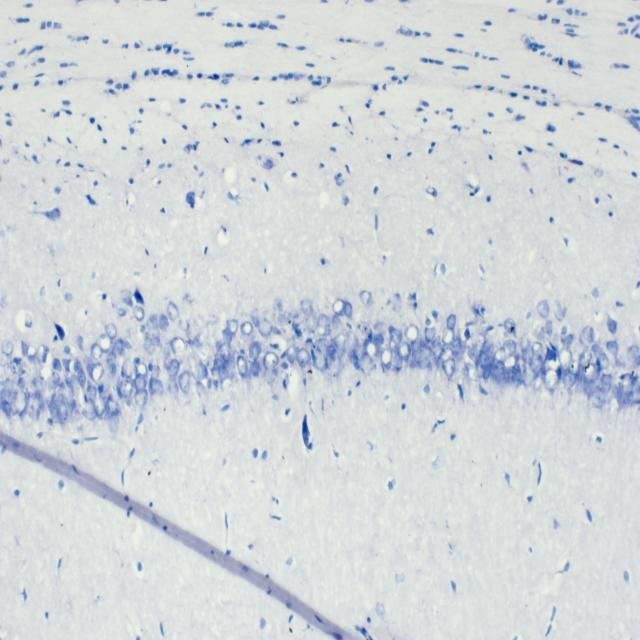neuron: (551, 379, 572, 413), (310, 342, 328, 372), (25, 393, 40, 421), (87, 362, 105, 383), (452, 337, 467, 362), (317, 314, 332, 337), (388, 324, 402, 348), (558, 347, 572, 371), (502, 352, 520, 370), (148, 377, 165, 396), (544, 368, 558, 391), (419, 345, 432, 369), (532, 354, 545, 378), (359, 353, 373, 375), (296, 348, 311, 368), (404, 323, 419, 343), (93, 393, 106, 416), (364, 338, 378, 359), (49, 394, 59, 423), (263, 351, 279, 369), (178, 371, 191, 393), (493, 346, 506, 368), (591, 386, 604, 408), (98, 333, 112, 353), (120, 288, 134, 308), (333, 332, 347, 352), (389, 350, 403, 370), (397, 341, 411, 361), (236, 356, 248, 379), (522, 365, 535, 386), (104, 399, 120, 416), (170, 337, 186, 354), (58, 399, 68, 426), (332, 298, 347, 316), (167, 302, 180, 322), (263, 364, 276, 384), (442, 358, 455, 378), (33, 389, 45, 410), (134, 388, 148, 406), (258, 319, 272, 337), (300, 298, 314, 316), (306, 313, 318, 334), (359, 290, 373, 308), (380, 348, 392, 369), (596, 352, 610, 370), (195, 361, 208, 380), (442, 327, 455, 346), (37, 344, 49, 364), (143, 336, 155, 356), (600, 372, 612, 392), (120, 380, 133, 398), (167, 359, 180, 377), (536, 300, 549, 318), (286, 343, 297, 364), (346, 330, 357, 351), (606, 315, 618, 334), (439, 346, 453, 362), (567, 360, 581, 376), (562, 372, 576, 388), (249, 341, 262, 358), (579, 350, 592, 367), (122, 358, 133, 378), (168, 376, 179, 396), (479, 350, 490, 370), (48, 371, 60, 389), (105, 322, 117, 340), (158, 314, 170, 332), (219, 344, 231, 362), (522, 346, 534, 364), (503, 339, 516, 355), (582, 326, 595, 342), (412, 339, 421, 362), (1, 339, 13, 356), (0, 400, 12, 417), (91, 343, 103, 360), (218, 365, 230, 382), (222, 327, 232, 347), (227, 319, 238, 337), (613, 352, 626, 367), (133, 306, 145, 322), (146, 314, 158, 330), (504, 318, 516, 334), (606, 340, 618, 356), (251, 359, 261, 378), (250, 308, 260, 327), (331, 314, 342, 331), (2, 363, 16, 376), (134, 377, 148, 390), (560, 334, 574, 347), (627, 344, 640, 358), (86, 385, 96, 403), (136, 362, 148, 377), (241, 321, 253, 336), (373, 321, 388, 333), (425, 327, 436, 343), (232, 349, 242, 366), (520, 335, 530, 352), (64, 374, 77, 387), (178, 318, 190, 332), (428, 350, 436, 371), (447, 312, 456, 330), (27, 346, 37, 362), (78, 369, 86, 389), (343, 302, 353, 318), (532, 341, 542, 357), (586, 379, 594, 399), (372, 333, 384, 346), (629, 355, 640, 369), (352, 352, 360, 370), (606, 384, 614, 402), (106, 352, 116, 366), (544, 320, 552, 337), (591, 343, 603, 354), (52, 358, 61, 372), (117, 338, 124, 356), (215, 358, 225, 370), (76, 335, 84, 350), (18, 377, 26, 391), (109, 363, 116, 377), (124, 340, 133, 350), (5, 378, 12, 390), (117, 308, 127, 316), (74, 409, 80, 422), (64, 346, 71, 354), (140, 324, 146, 333)
